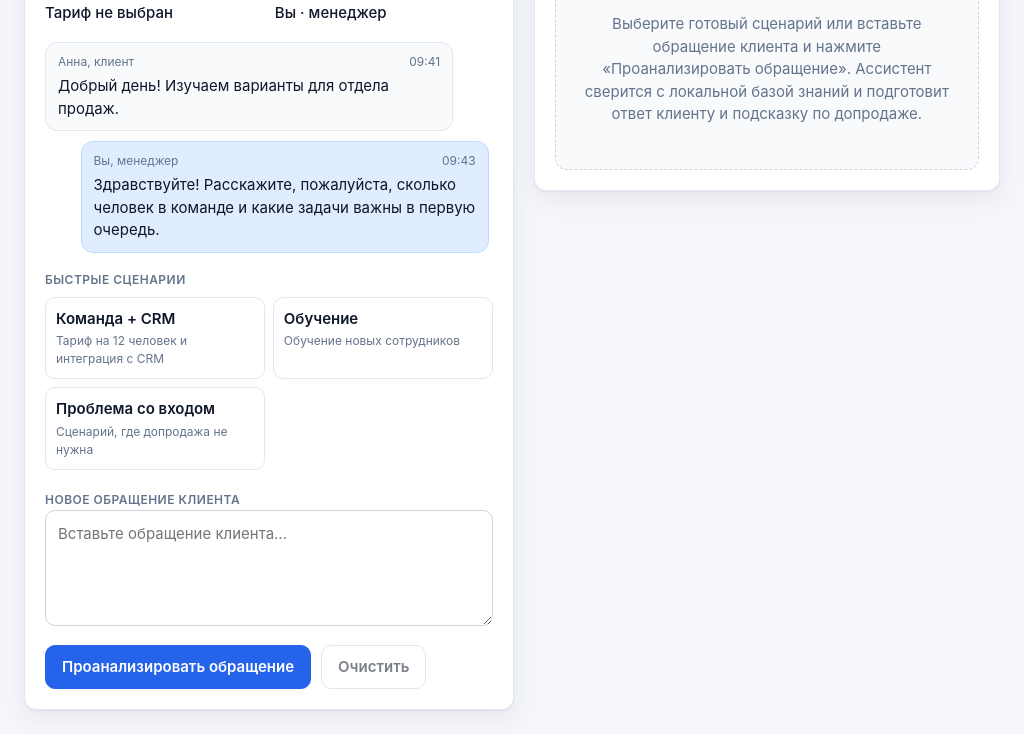
Test: App › передаёт видимую историю диалога в /api/ai, не дублируя текущий запрос
(page scrolled)
In the text box with test id "request-input": (269, 568) [45,510,493,626], type "Хотим тариф для команды из 12 человек и интеграцию с CRM"
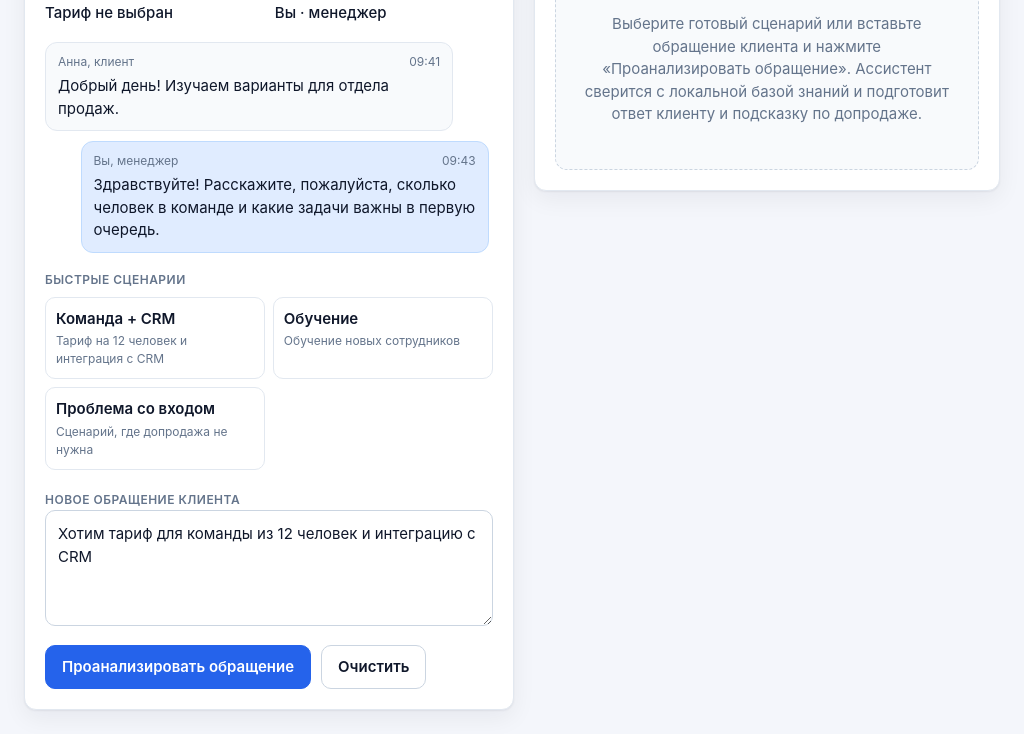
Click the button with test id "analyze-button": (178, 667) [45,644,311,689]
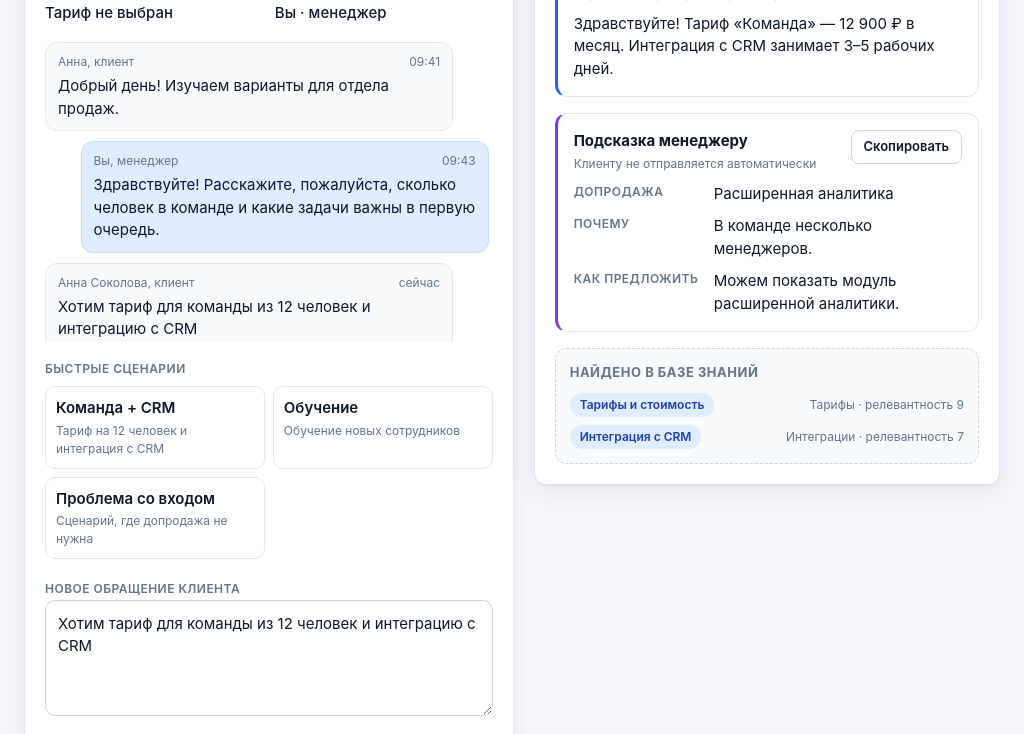
Now the text "Хотим тариф для команды из 12 человек и интеграцию с CRM" is shown, box [58,296,375,338]
